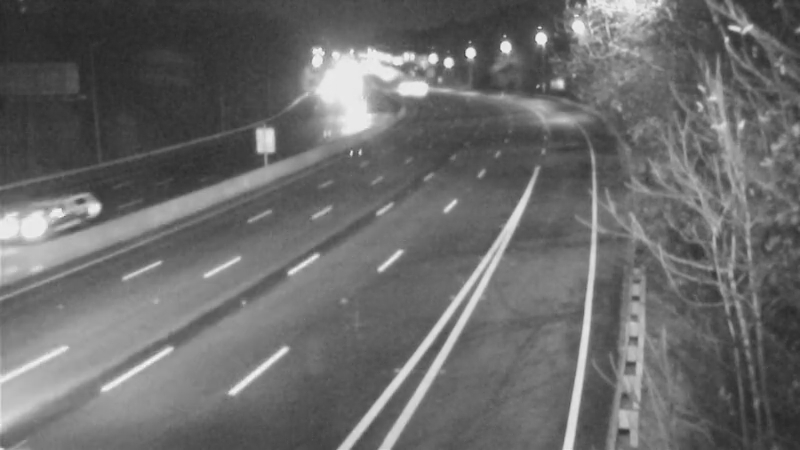vehicle: (1, 183, 76, 263), (318, 98, 368, 148)
